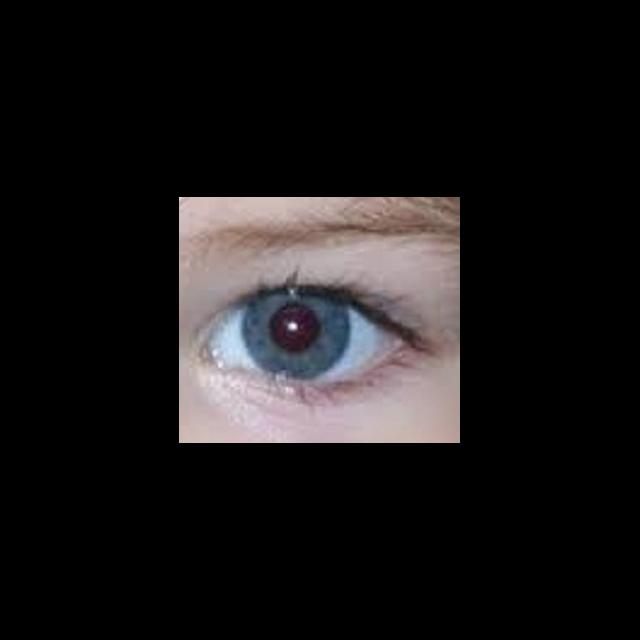eye: (213, 289, 398, 382)
iris: (245, 291, 349, 380)
